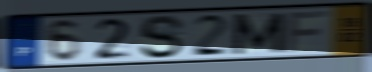2: (187, 14, 232, 57), (95, 17, 131, 61)
6: (46, 18, 83, 63)
F: (283, 9, 332, 55)
M: (230, 11, 287, 57)
S: (138, 13, 186, 60)
